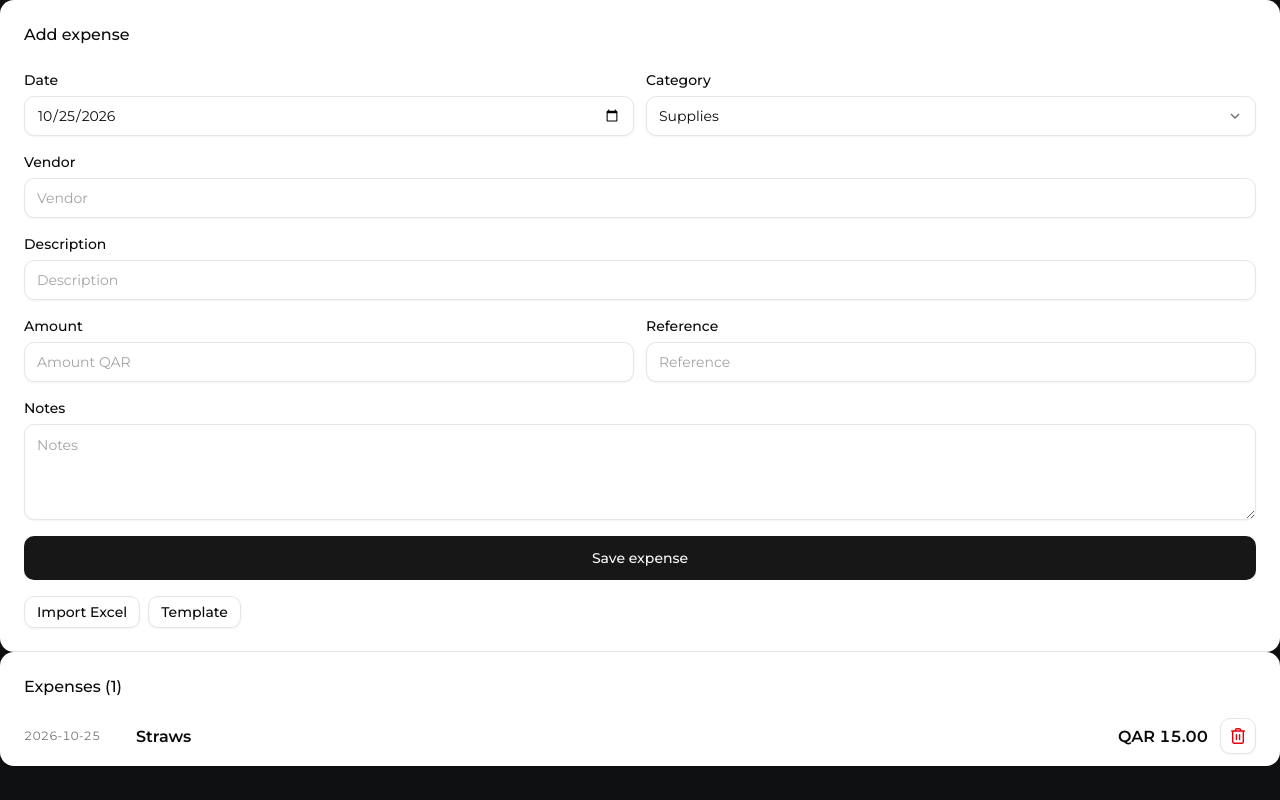
Test: ExpensesPanel › keeps the expense when the delete is cancelled
Expected: the heading "Expenses (1)" is shown, left=24, top=676, right=122, bottom=698
Click the button named "Delete". click: coordinates (1238, 736)
box: left=1220, top=718, right=1256, bottom=754
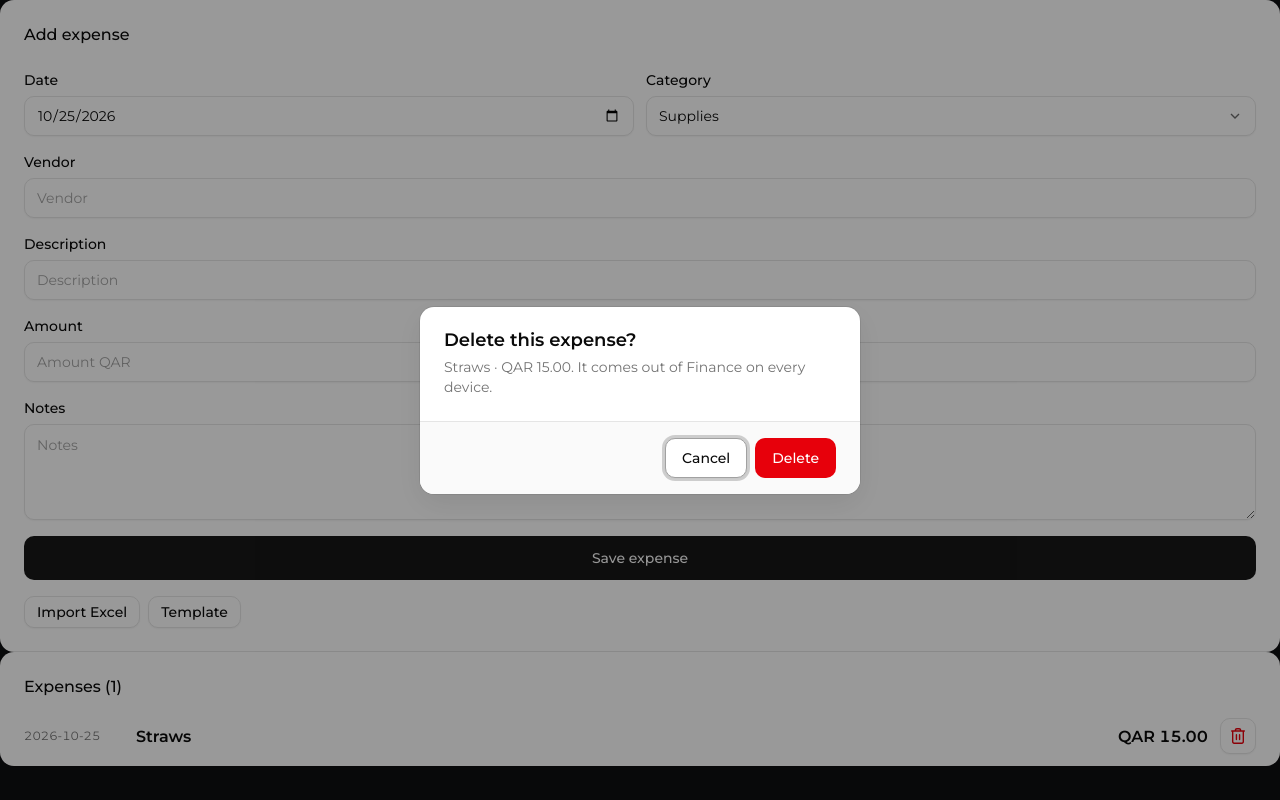
Click the button "Cancel". click: coordinates (706, 458)
box: left=665, top=438, right=747, bottom=478
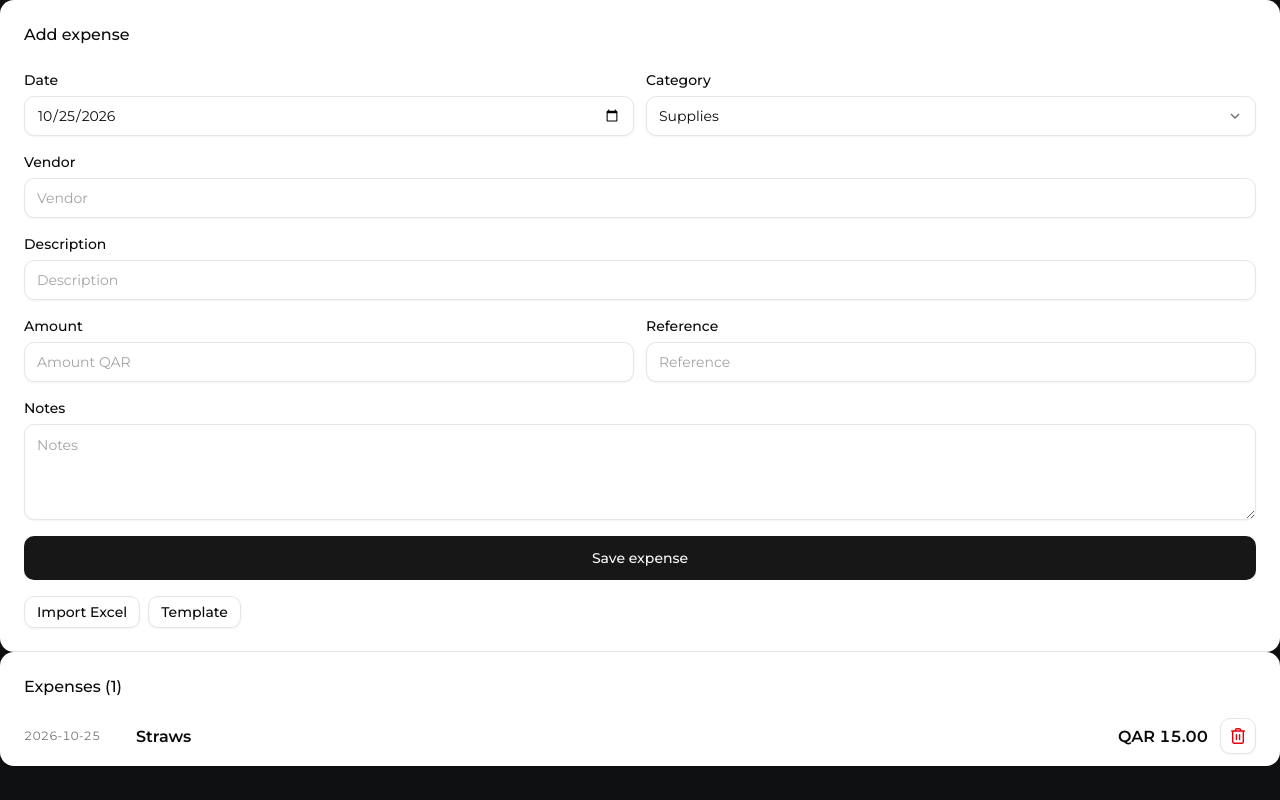
Result: the dialog is gone
